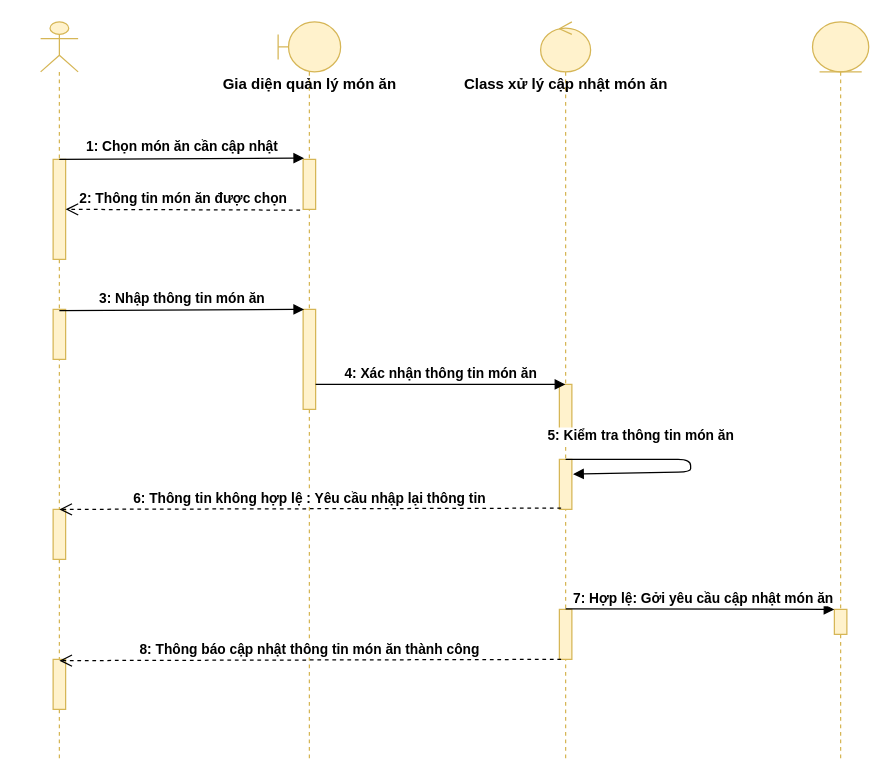
Image size: 890x781. Some labels were removed from this diagram. The box of each missing label's shape, as (x1, y1, x2, y2) in pixels:
Food: (811, 21, 869, 759)
Quản trị: (39, 21, 78, 759)
